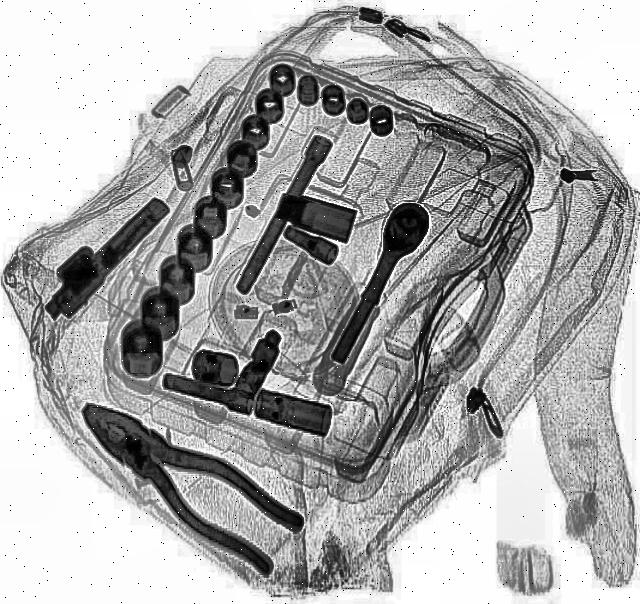Gun: (28, 186, 178, 328)
Pliers: (56, 380, 320, 582)
